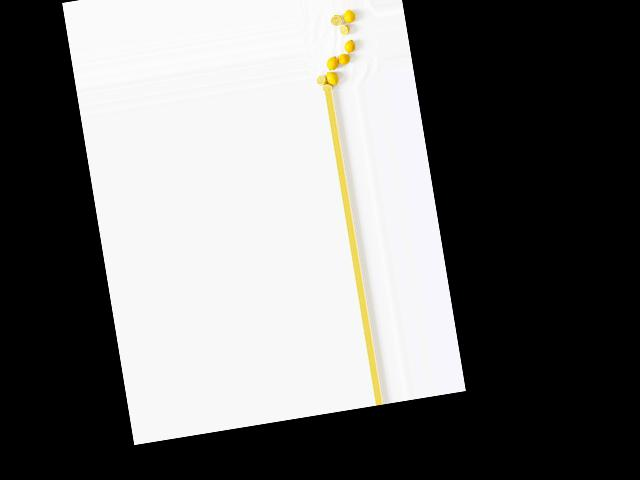lemon: (324, 65, 341, 87)
